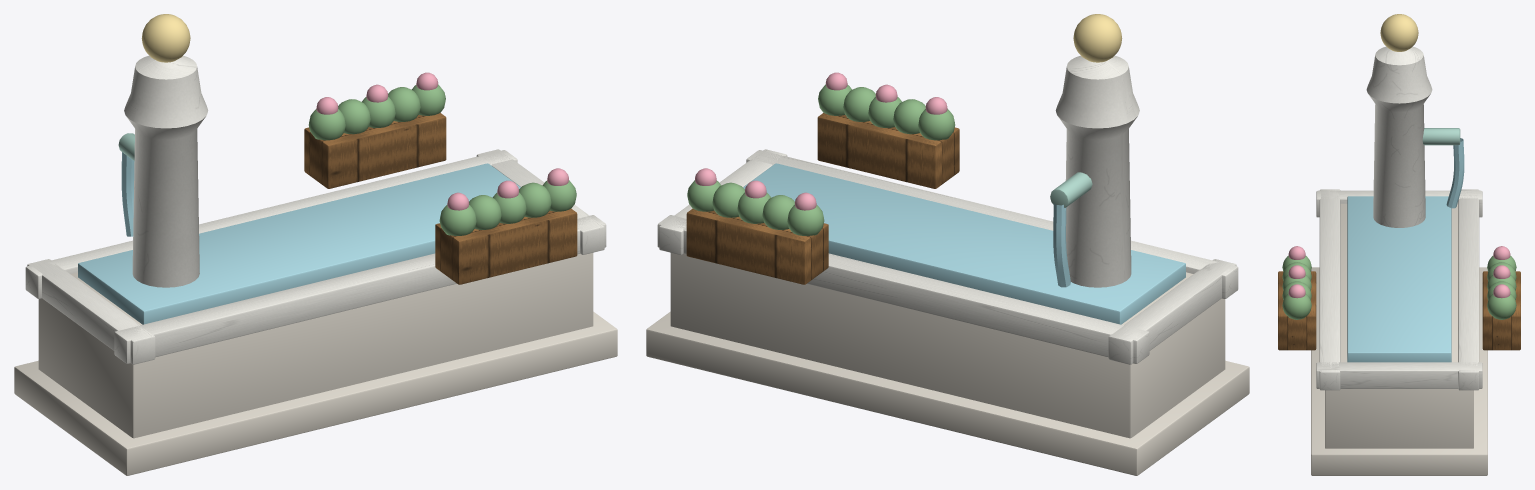
The model's file is th36_trinkbrunnen.glb.
The picture shows the model from 3 angles, left to right: view 1: azimuth 30°, elevation 25°; view 2: azimuth 150°, elevation 25°; view 3: azimuth 270°, elevation 25°; orthographic projection. The views are drawn at different scales.
Visible parts, largest first — view 1: Cube, Cube.001, Cube.006, Stock, Cube.002, Cube.007, Cube.008, Cube.004, Cube.003, Sphere, Cube.005, Strahl (+10 smaller); view 2: Cube, Cube.001, Cube.006, Stock, Cube.004, Cube.008, Cube.007, Cube.003, Cube.002, Sphere, Cube.005, Strahl (+11 smaller); view 3: Cube.001, Cube, Stock, Cube.006, Cube.002, Cube.004, Cube.005, Cube.007, Cube.008, Sphere, Cube.003, Strahl (+3 smaller).
Boxes of the visible parts, x1,y1,x2,y2 form: Cube: (38,253,593,438); Cube.001: (78,163,520,324); Cube.006: (14,311,617,475); Stock: (124,55,208,287); Cube.002: (114,215,606,363); Cube.007: (435,208,577,284); Cube.008: (304,112,446,188); Cube.004: (25,150,517,298); Cube.003: (27,259,155,364); Sphere: (141,14,190,62); Cube.005: (476,149,604,254); Strahl: (121,152,134,236); Cube: (670,253,1225,438); Cube.001: (743,163,1185,324); Cube.006: (646,311,1249,475); Stock: (1055,55,1139,287); Cube.004: (657,215,1149,363); Cube.008: (686,208,828,284); Cube.007: (817,112,959,188); Cube.003: (1108,259,1236,364); Cube.002: (746,150,1238,298); Sphere: (1073,14,1122,62); Cube.005: (659,149,787,254); Strahl: (1053,203,1070,287); Cube.001: (1347,196,1451,362); Cube: (1325,203,1473,448); Stock: (1366,46,1432,227); Cube.006: (1311,267,1487,475); Cube.002: (1319,189,1340,390); Cube.004: (1458,189,1479,390); Cube.005: (1316,362,1482,388); Cube.007: (1278,271,1316,350); Cube.008: (1482,271,1520,350); Sphere: (1380,14,1418,51); Cube.003: (1316,190,1482,217); Strahl: (1446,138,1464,208).
Size of the model in its own units: 2.56 by 1.97 by 1.4.
Materials: 8 (2 with a texture image).
